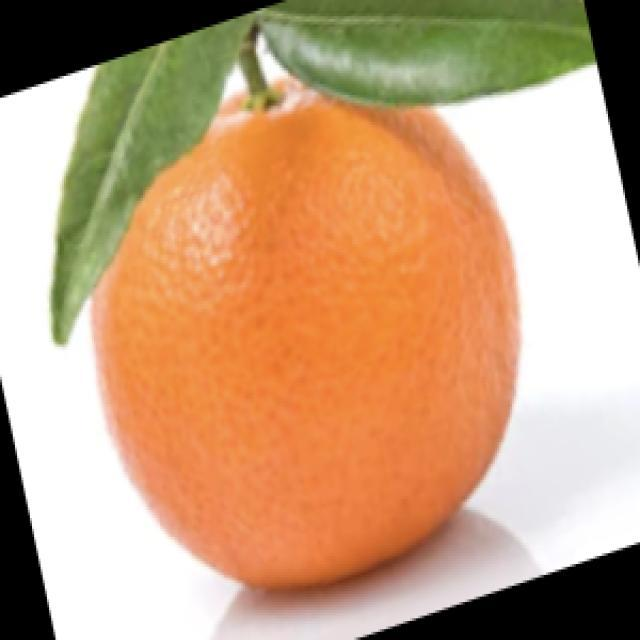matang: (92, 79, 519, 588)
